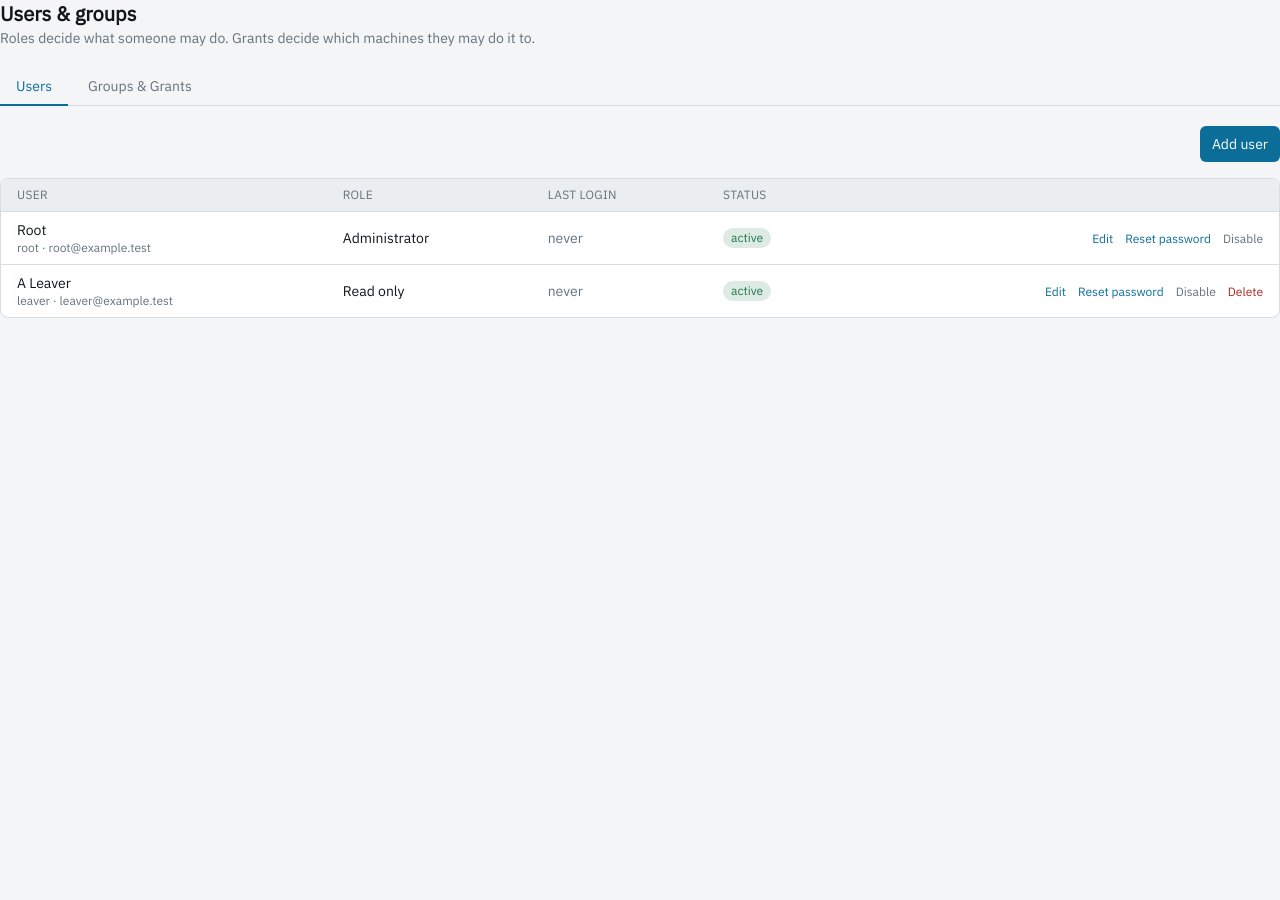
Test: UsersPage deletion › keeps the dialog open and shows why the server refused
Expected: the text "A Leaver" is shown, x1=17 y1=274 x2=71 y2=292
Click the button "Delete".
click(1245, 292)  # box x1=1228 y1=284 x2=1263 y2=300
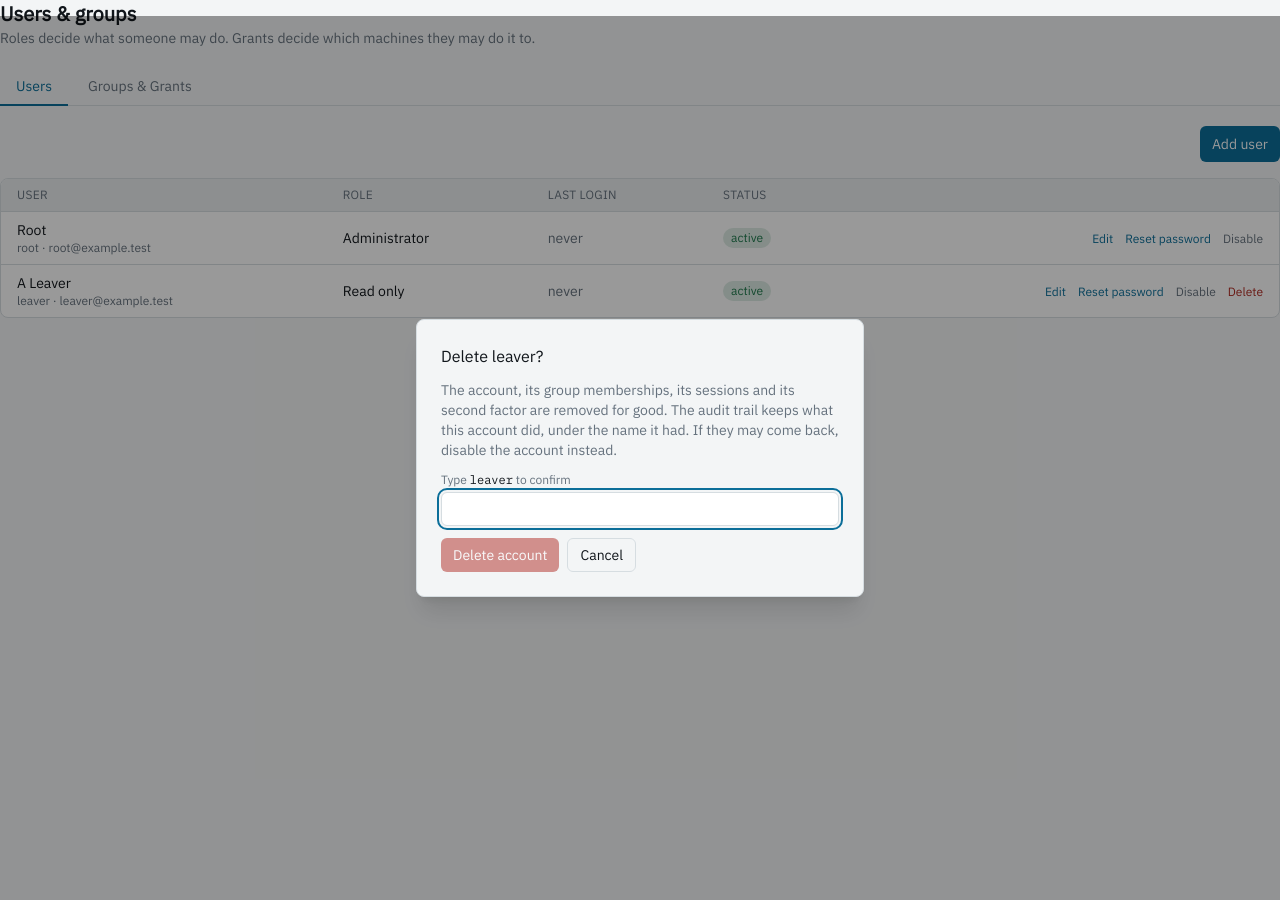
Type "leaver" into the field labelled "Type leaver to confirm".
click(640, 509); type("leaver")  # box x1=441 y1=492 x2=839 y2=526
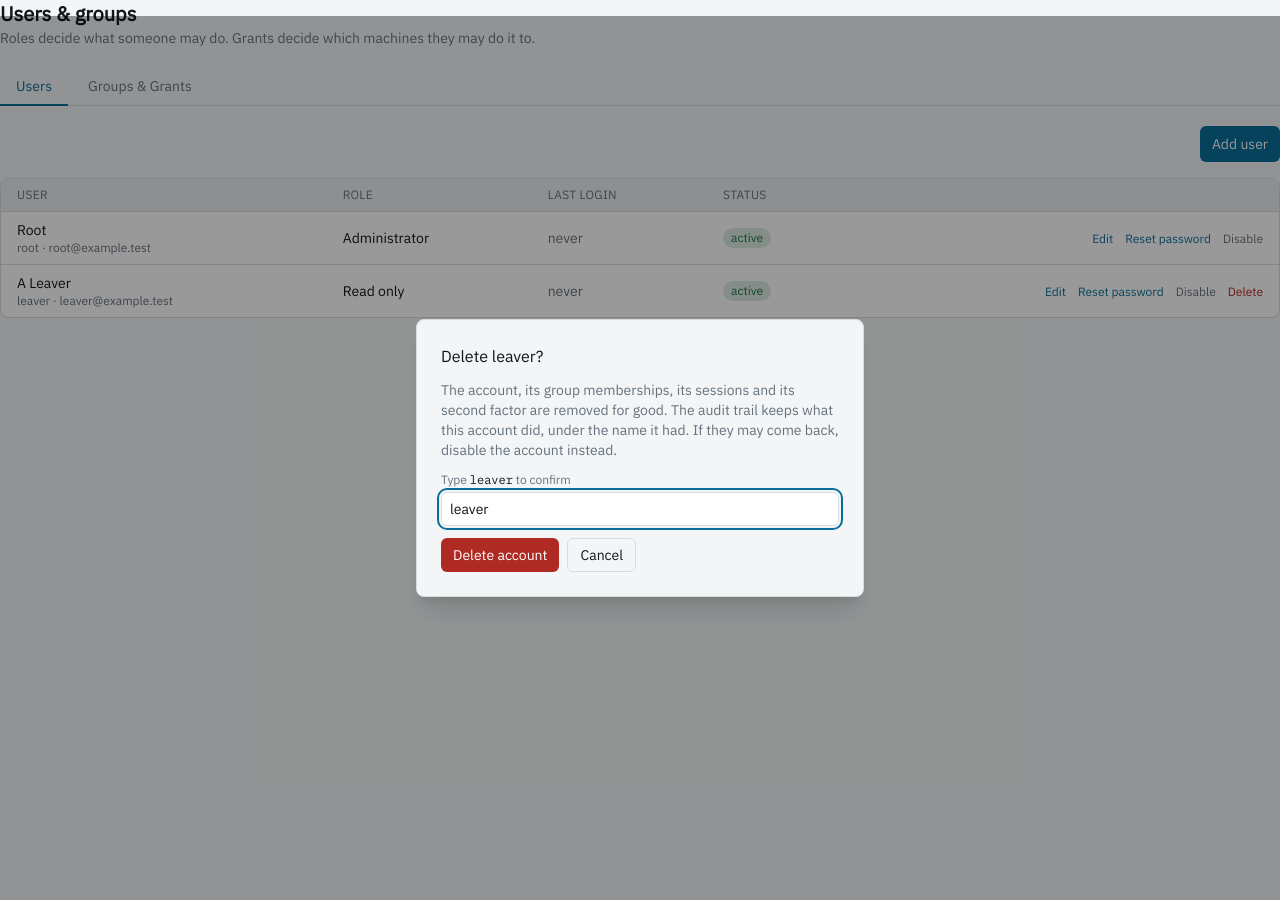
Click the button "Delete account".
click(500, 555)  # box x1=441 y1=538 x2=560 y2=572
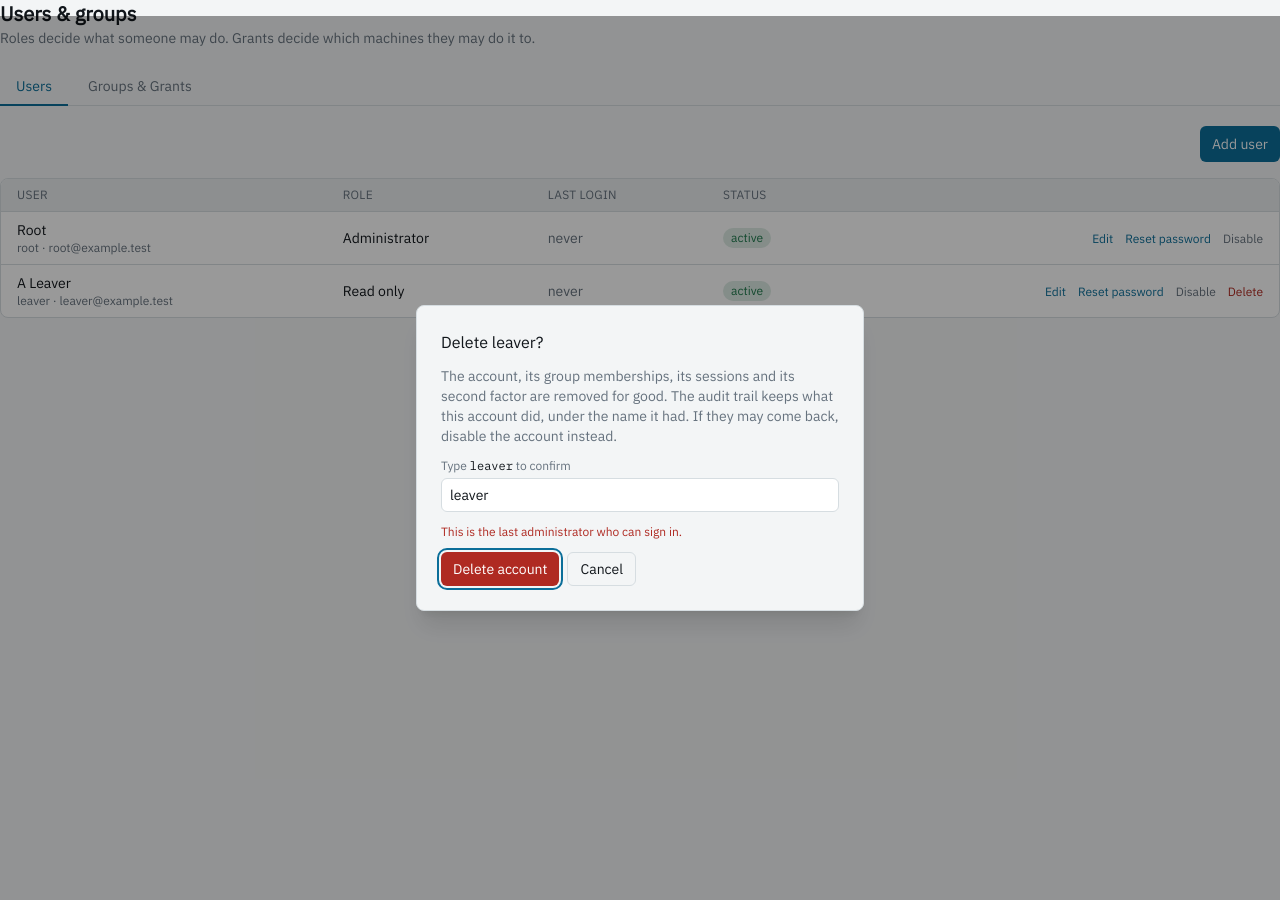
Expected: the dialog named "Delete user" is shown, x1=416 y1=305 x2=864 y2=611
Expected: the text "This is the last administrator who can sign in." is shown, x1=441 y1=524 x2=682 y2=539
